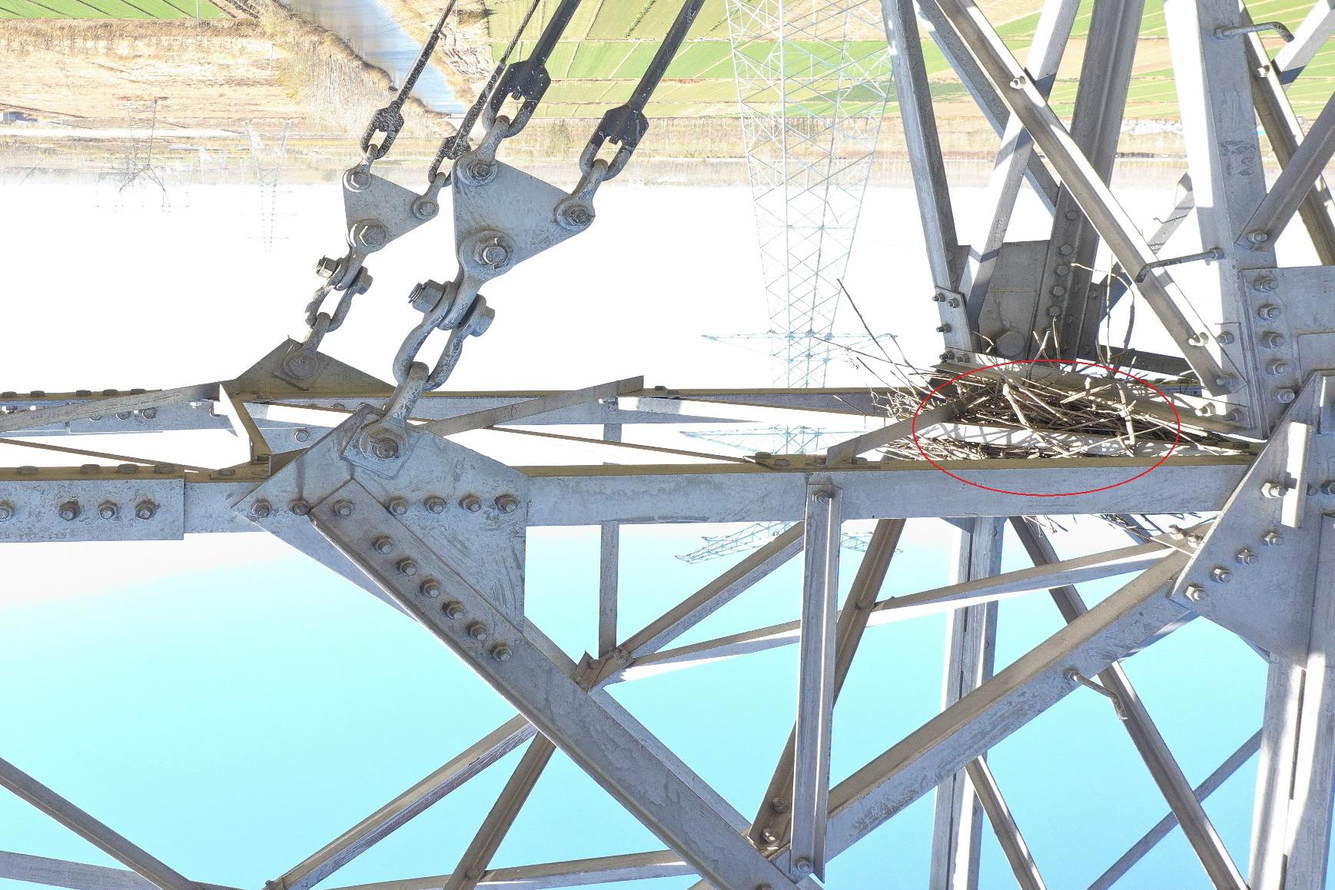nest: (856, 334, 1191, 482)
